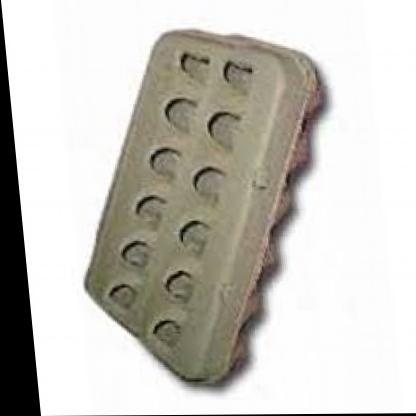trash: (85, 30, 320, 382)
